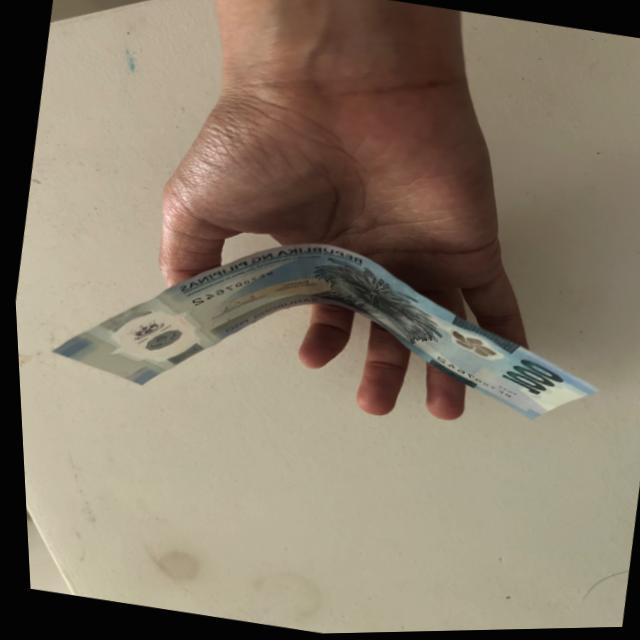clear_window: (76, 296, 207, 372)
eagle: (316, 258, 444, 349)
sampaguita: (440, 319, 509, 369)
security_thread: (281, 245, 325, 306)
value: (489, 350, 572, 407)
